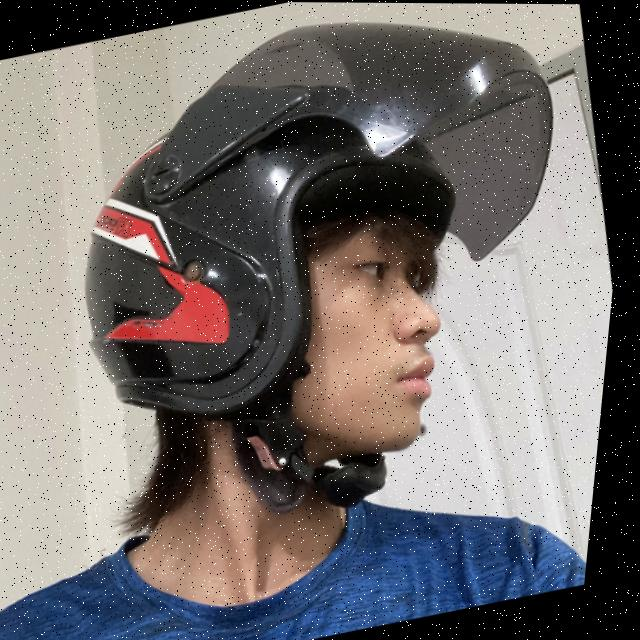helmet: (15, 0, 640, 565)
